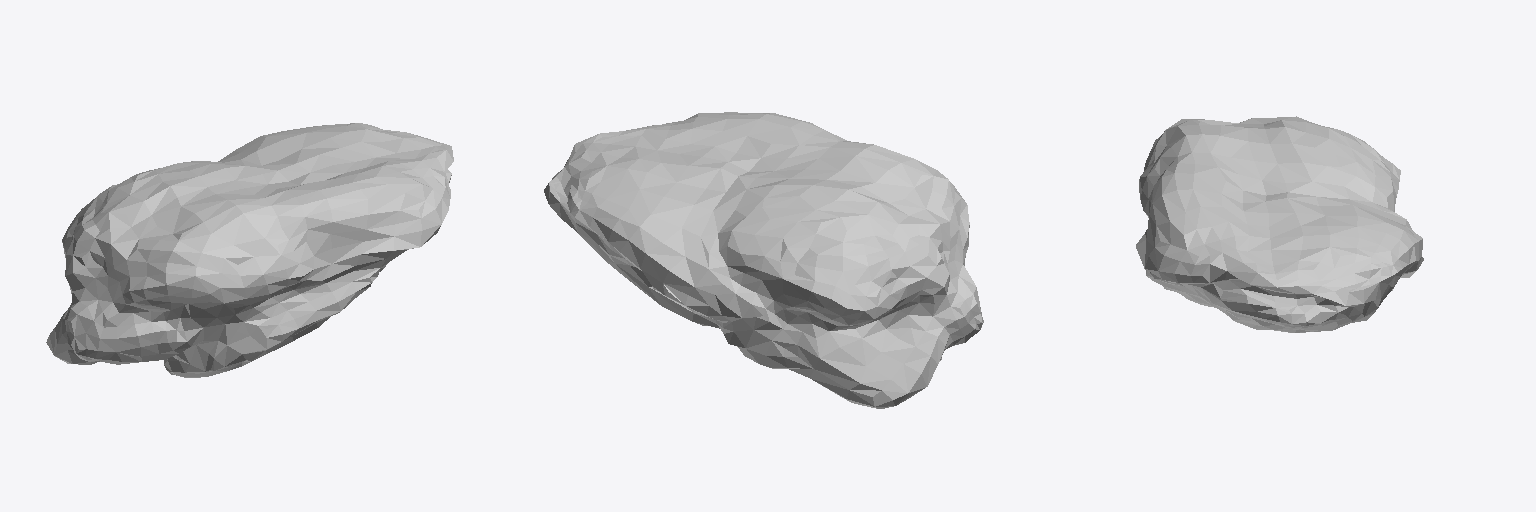
File: Rock_3.obj
The picture shows the model from 3 angles: view 1: azimuth 30°, elevation 25°; view 2: azimuth 150°, elevation 25°; view 3: azimuth 270°, elevation 25°; orthographic projection.
Parts seen in each view (by area): view 1: Rock; view 2: Rock; view 3: Rock.
Boxes of the visible parts, <box> form: Rock: <box>46,123,453,377</box>; Rock: <box>544,112,983,408</box>; Rock: <box>1136,116,1423,332</box>.
Bounding box in the file's own units: 212 × 94.73 × 133.